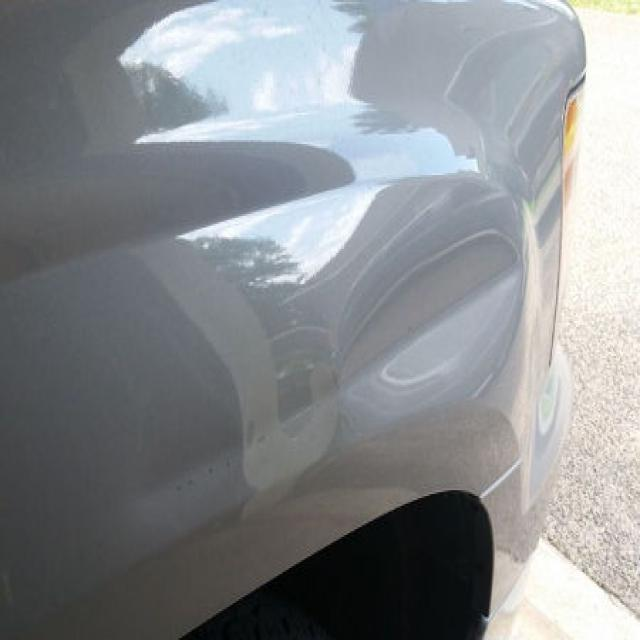dent: (323, 177, 541, 430)
